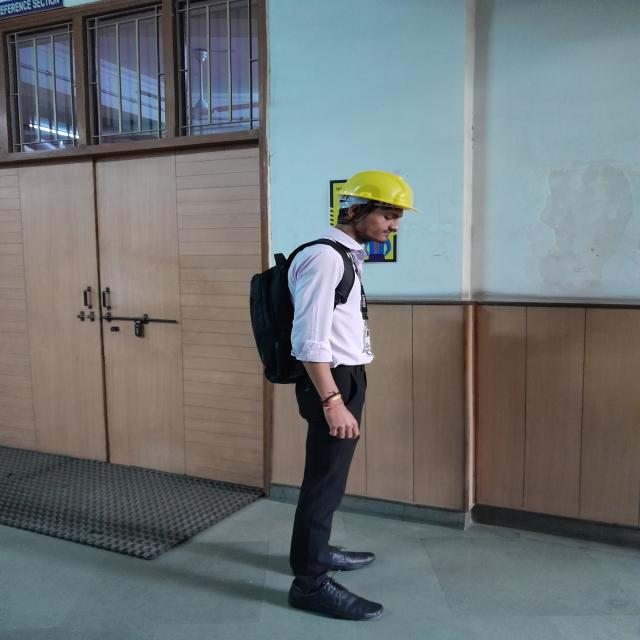no jacket: (276, 171, 408, 621)
